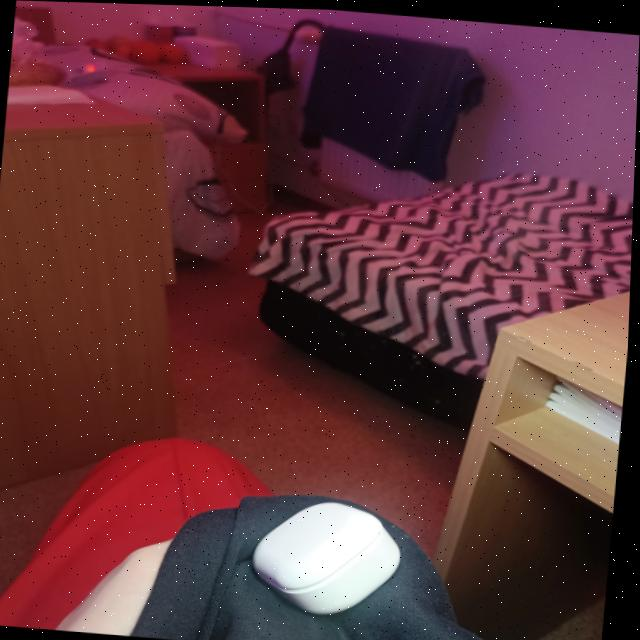headphones: (257, 500, 405, 612)
